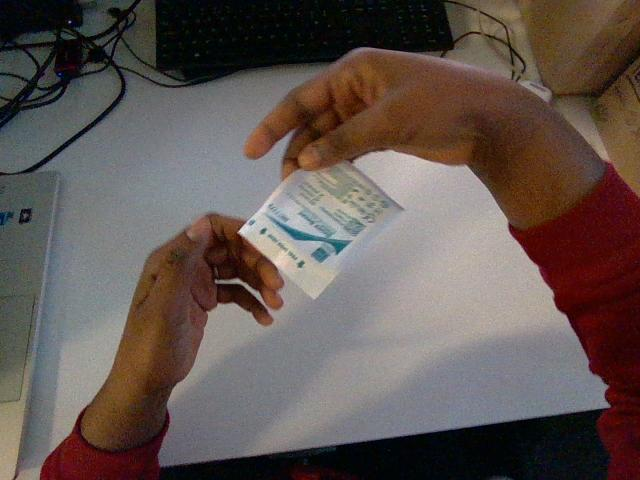gauze: (239, 162, 402, 298)
